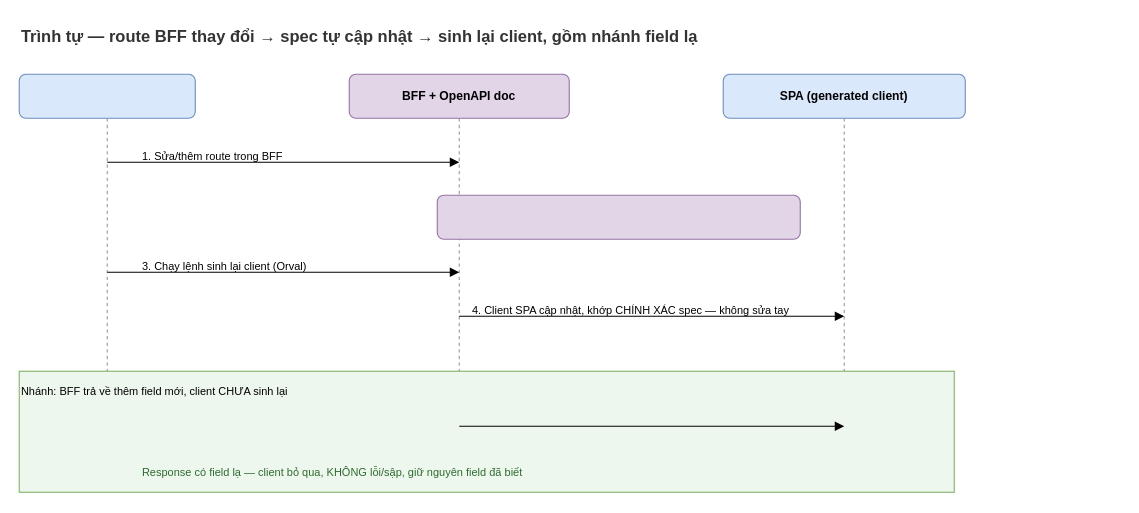
The diagram is 1139 pixels wide and 513 high, and some of its shapes have lost their labels. Each missing label, with the centre of its shape:
"2. OpenAPI document tự cập nhật theo route thật (by construction)" belongs at point 618,216.
"Developer" belongs at point 106,95.
